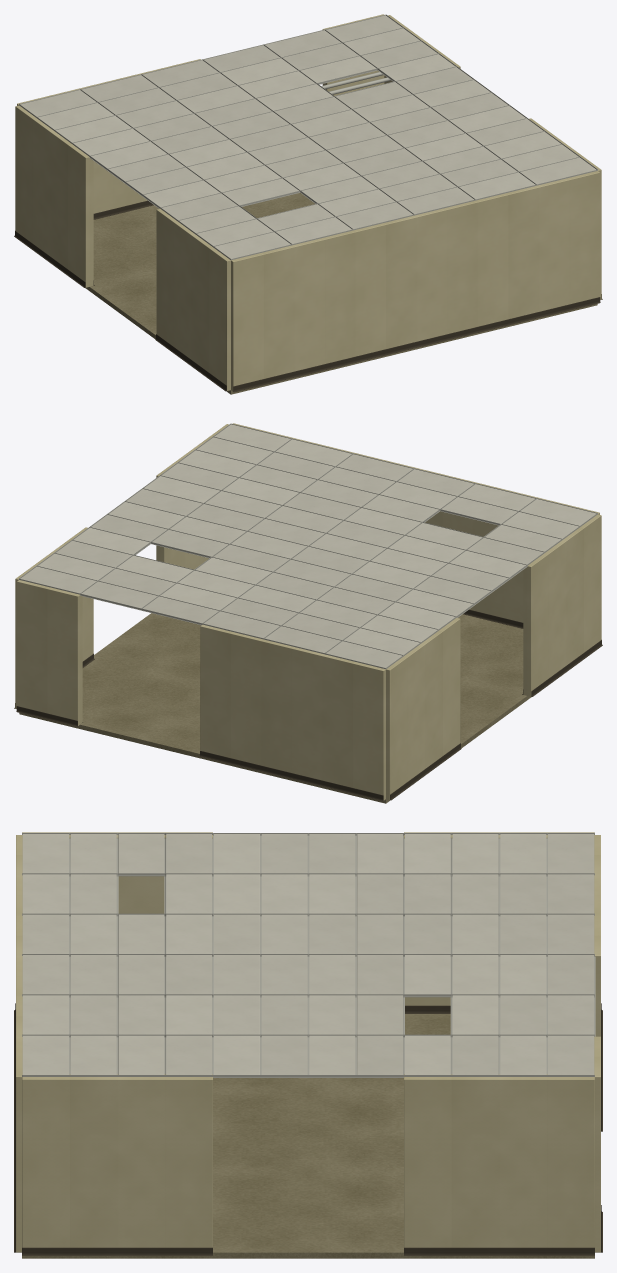
Rendered from short_service.gltf.
The picture shows the model from 3 angles, top to bottom: view 1: azimuth 30°, elevation 25°; view 2: azimuth 150°, elevation 25°; view 3: azimuth 270°, elevation 25°; orthographic projection. The views are drawn at different scales.
Parts seen in each view (by area): view 1: short_service; view 2: short_service; view 3: short_service.
Boxes of the visible parts, box(x1,y1,x2,y2) form: short_service: box(14, 14, 602, 394); short_service: box(14, 423, 602, 803); short_service: box(14, 832, 602, 1258).
Size of the model in its own units: 7.53 by 2.59 by 7.53.
Materials: 6 (6 with a texture image).
